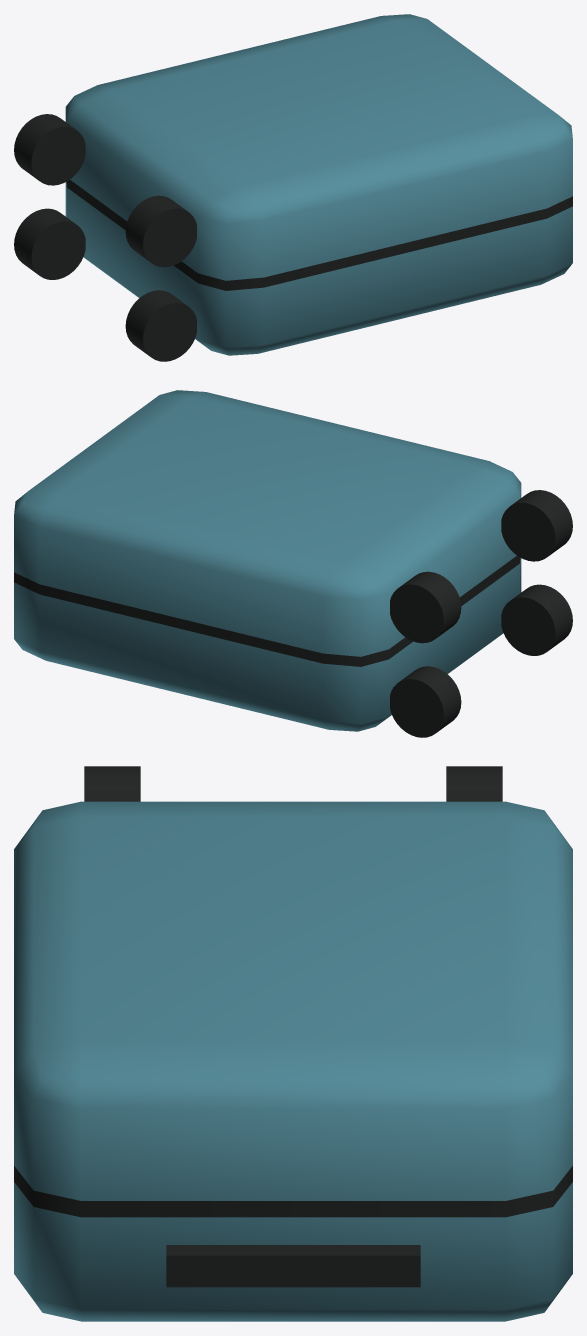
The model's file is luggage2.obj.
3 renders of one model, top to bottom at view 1: azimuth 30°, elevation 25°; view 2: azimuth 150°, elevation 25°; view 3: azimuth 270°, elevation 25°, orthographic. The views are drawn at different scales.
Parts seen in each view (by area): view 1: luggage2; view 2: luggage2; view 3: luggage2.
Part boxes in pixels (left/top/right/bottom): luggage2: left=14, top=14, right=572, bottom=361; luggage2: left=14, top=390, right=572, bottom=737; luggage2: left=14, top=766, right=572, bottom=1321.
Size of what is drawn, in the model's own units: 3.64 by 1.29 by 2.47.
1 material, 1 textured.
